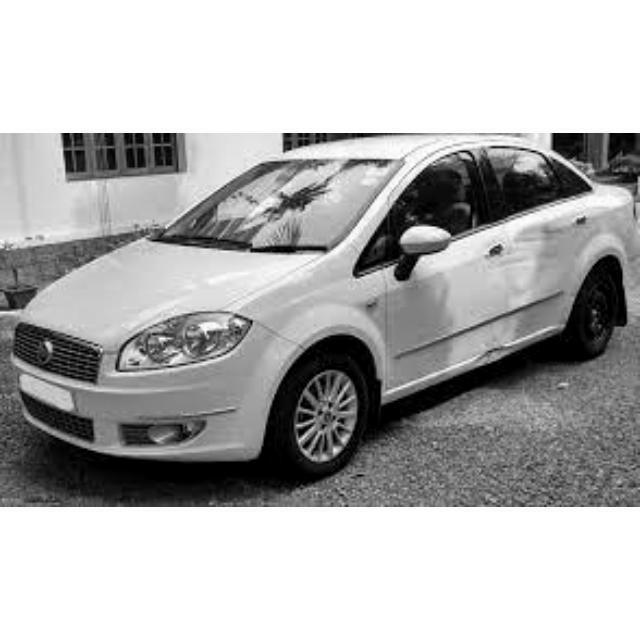doorouter-dent: (342, 227, 529, 385)
